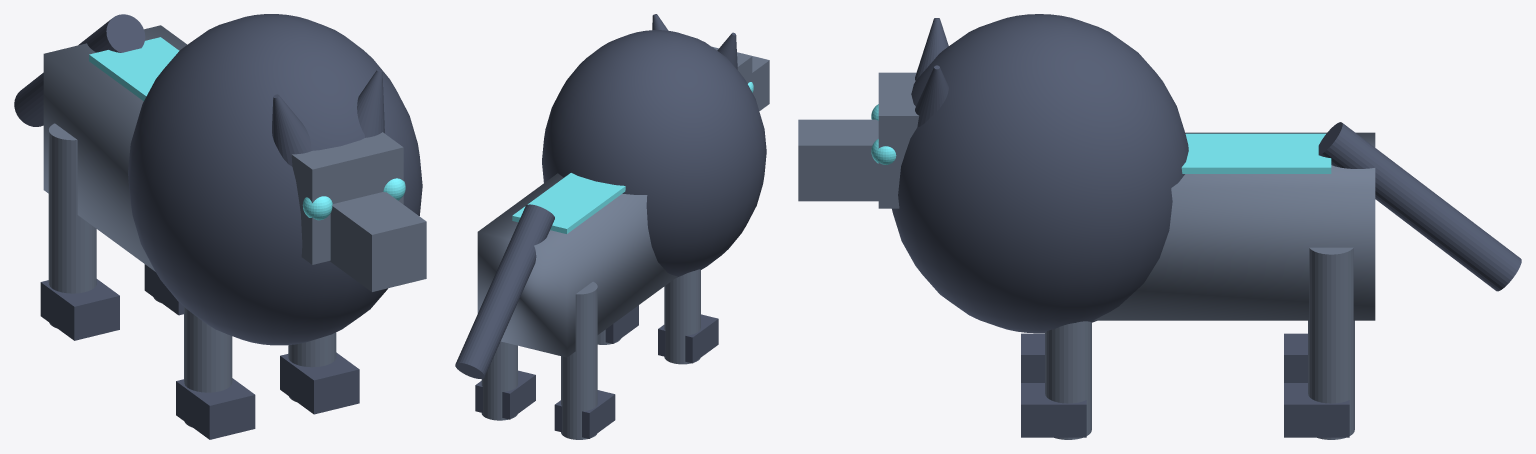
Rendered from Lobo_Magico_Epico.fbx.
3 views of the same model, side by side, from view 1: azimuth 30°, elevation 25°; view 2: azimuth 150°, elevation 25°; view 3: azimuth 270°, elevation 25° (orthographic). The views are drawn at different scales.
Parts seen in each view (by area): view 1: Sphere, Cube, Cube.002, Cube.001, Cylinder.002, Cube.005, Cube.003, Cube.004, Cylinder, Cylinder.004, Cube.007, Cone (+4 smaller); view 2: Sphere, Cube, Cylinder.004, Cylinder.002, Cube.007, Cylinder, Cylinder.003, Cube.005, Cube.003, Cube.006, Cube.002, Cube.004 (+2 smaller); view 3: Sphere, Cube, Cylinder.004, Cylinder.003, Cube.002, Cube.007, Cylinder.001, Cube.001, Cube.004, Cube.006, Cube.003, Cube.005 (+2 smaller).
Boxes of the visible parts, x1,y1,x2,y2 form: Sphere: (128,14,422,345); Cube: (43,25,187,271); Cube.002: (330,192,426,291); Cube.001: (291,132,403,264); Cylinder.002: (48,123,96,328); Cube.005: (40,279,119,340); Cube.003: (176,378,255,439); Cube.004: (280,352,359,414); Cylinder: (184,307,232,427); Cylinder.004: (14,14,145,126); Cube.007: (89,37,179,101); Cone: (272,94,311,166); Sphere: (542,30,766,277); Cube: (477,173,677,357); Cylinder.004: (455,204,554,378); Cylinder.002: (561,281,597,439); Cube.007: (512,173,625,233); Cylinder: (664,269,700,364); Cylinder.003: (481,341,517,420); Cube.005: (554,390,615,438); Cube.003: (658,314,718,363); Cube.006: (475,370,535,419); Cube.002: (737,52,769,110); Cube.004: (605,305,638,343); Sphere: (892,14,1188,333); Cube: (1093,132,1375,320); Cylinder.004: (1318,122,1521,291); Cylinder.003: (1308,247,1354,439); Cube.002: (798,119,878,201); Cube.007: (1181,133,1331,173); Cylinder.001: (1045,321,1091,439); Cube.001: (878,72,919,208); Cube.004: (1021,383,1086,437); Cube.006: (1284,383,1349,437); Cube.003: (1021,333,1044,382); Cube.005: (1284,333,1307,382).
Bounding box in the file's own units: 192 × 287 × 495.
